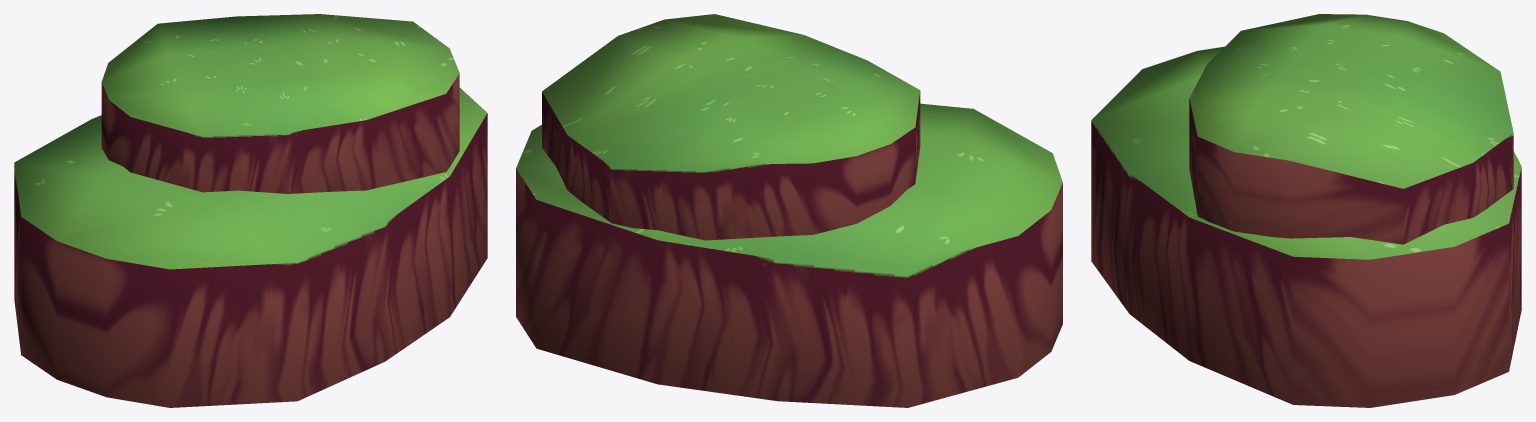
The model's file is island_05.gltf.
The picture shows the model from 3 angles, left to right: view 1: azimuth 30°, elevation 25°; view 2: azimuth 150°, elevation 25°; view 3: azimuth 270°, elevation 25°; orthographic projection. The views are drawn at different scales.
Parts seen in each view (by area): view 1: Island05Mesh -col; view 2: Island05Mesh -col; view 3: Island05Mesh -col.
Part boxes in pixels (x1,y1,x2,y2): Island05Mesh -col: (14,14,487,407); Island05Mesh -col: (516,14,1062,407); Island05Mesh -col: (1091,14,1521,407).
Size of the model in its own units: 5.26 by 2.56 by 4.23.
1 material, 1 textured.
